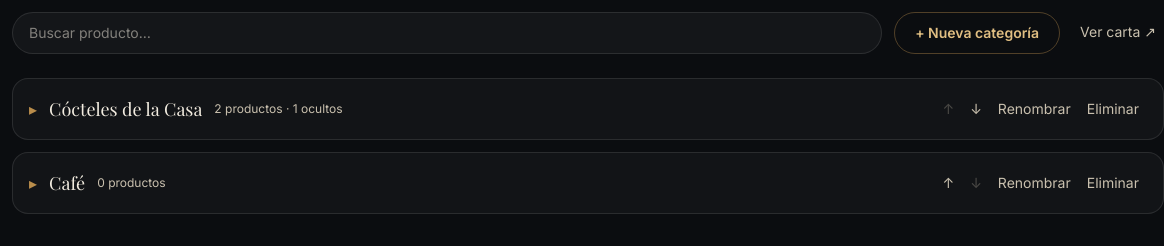
Scenario: MenuEditor › search matches without accents and expands the results
Type "pacifico" into the search field labelled "Buscar producto" at (447, 33), box x1=12 y1=12 x2=882 y2=54
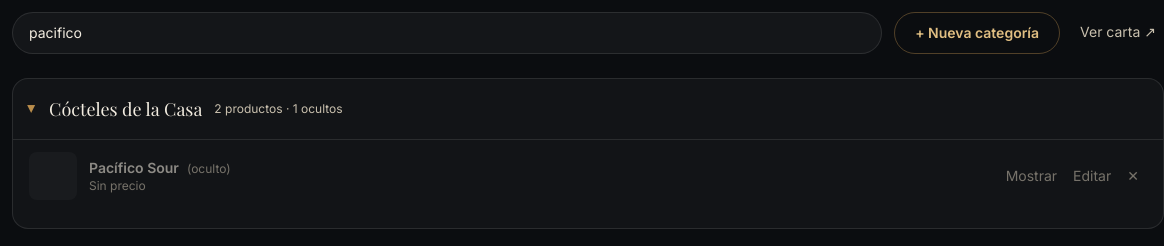
expect the text "Pacífico Sour" is shown: met, box x1=89 y1=159 x2=179 y2=176
expect the button "Café" is gone: met
